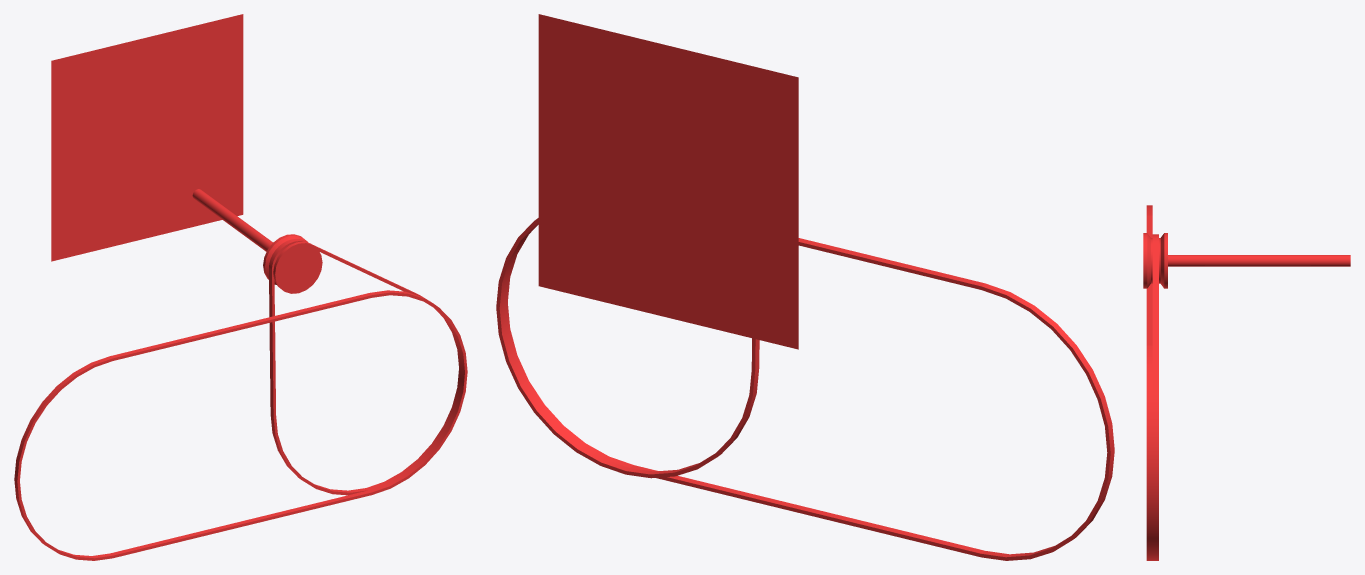
File: SpeedUpgradeA1.obj
The picture shows the model from 3 angles, left to right: view 1: azimuth 30°, elevation 25°; view 2: azimuth 150°, elevation 25°; view 3: azimuth 270°, elevation 25°; orthographic projection. The views are drawn at different scales.
Parts seen in each view (by area): view 1: pCylinder26 SpeedUpgradeA_Parts; view 2: pCylinder26 SpeedUpgradeA_Parts; view 3: pCylinder26 SpeedUpgradeA_Parts.
Part boxes in pixels (x1,y1,x2,y2): pCylinder26 SpeedUpgradeA_Parts: (14, 14, 467, 560); pCylinder26 SpeedUpgradeA_Parts: (496, 14, 1114, 560); pCylinder26 SpeedUpgradeA_Parts: (1143, 205, 1350, 560).
Bounding box in the file's own units: 1.05 × 0.9296 × 0.41.
